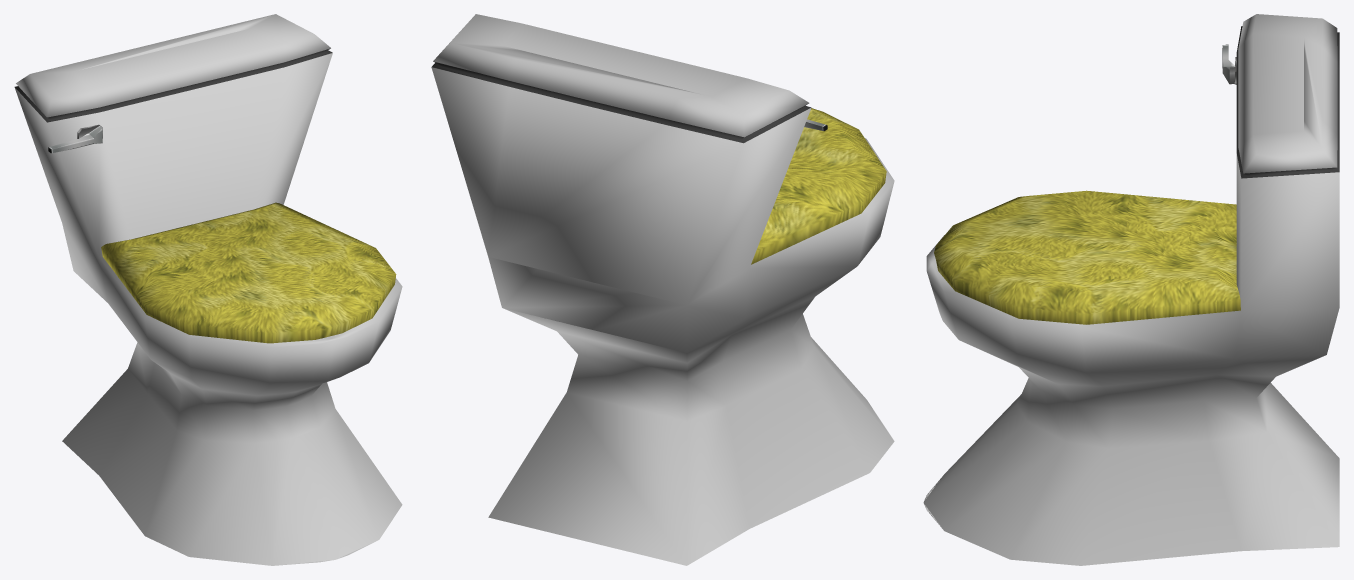
Rendered from Potty_G.FBX.
3 renders of one model, left to right at view 1: azimuth 30°, elevation 25°; view 2: azimuth 150°, elevation 25°; view 3: azimuth 270°, elevation 25°, orthographic. The views are drawn at different scales.
Visible parts, largest first — view 1: Potty; view 2: Potty; view 3: Potty.
Part boxes in pixels (x1=…): Potty: x1=14, y1=14, x2=402, y2=565; Potty: x1=431, y1=14, x2=894, y2=565; Potty: x1=923, y1=14, x2=1339, y2=565.
Size of the model in its own units: 140 by 176 by 159.
